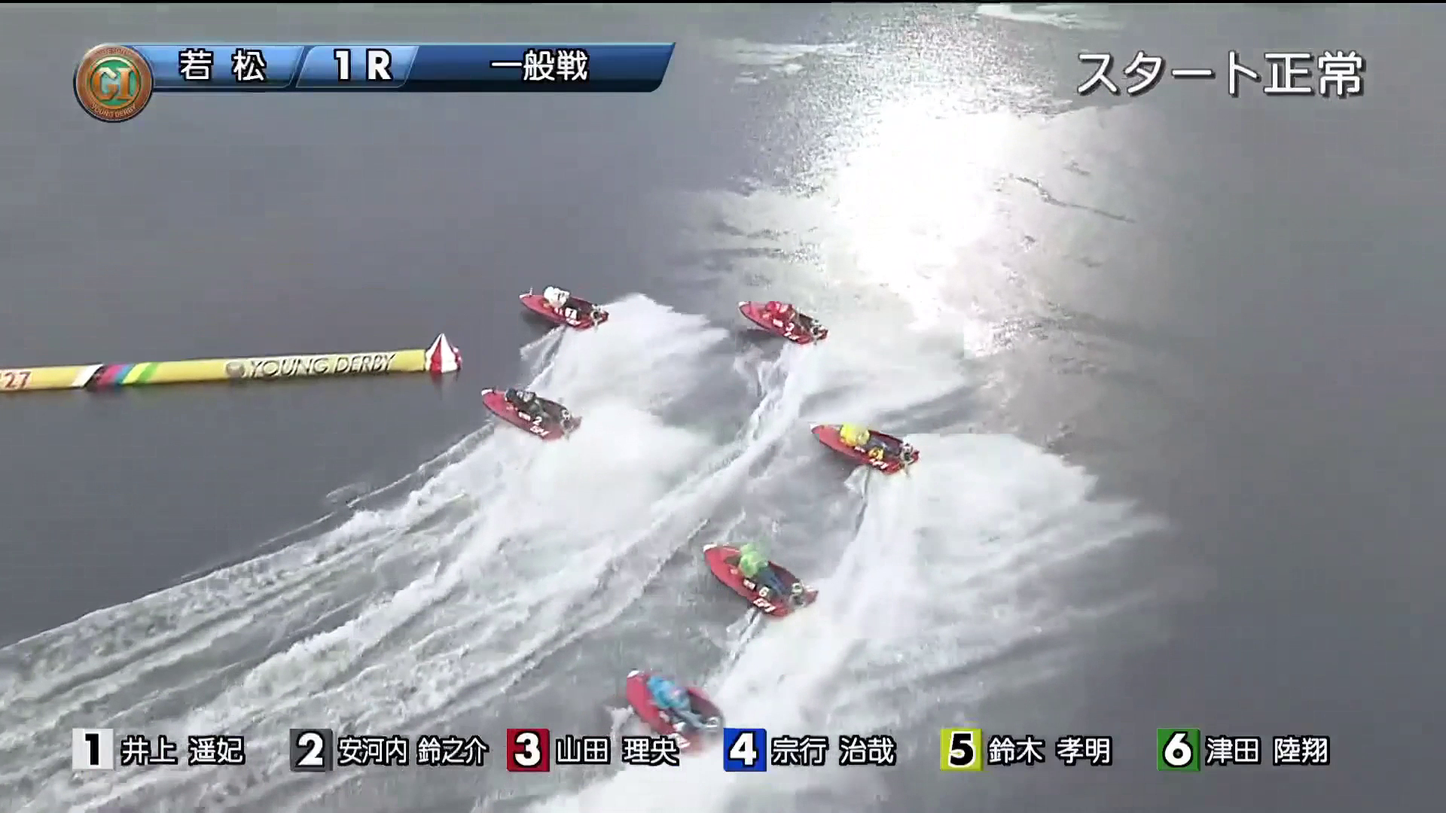１号艇: (503, 285, 573, 338)
２号艇: (450, 375, 578, 435)
３号艇: (738, 285, 835, 332)
４号艇: (697, 534, 831, 599)
５号艇: (623, 669, 747, 724)
６号艇: (813, 402, 913, 475)
